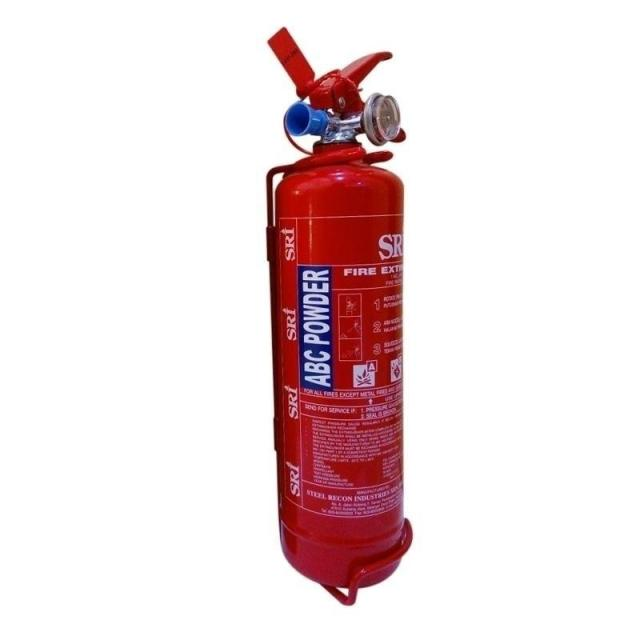fire_extinguisher: (263, 22, 412, 591)
